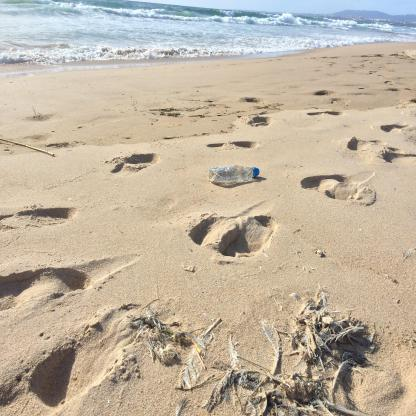plastik: (211, 166, 261, 184)
